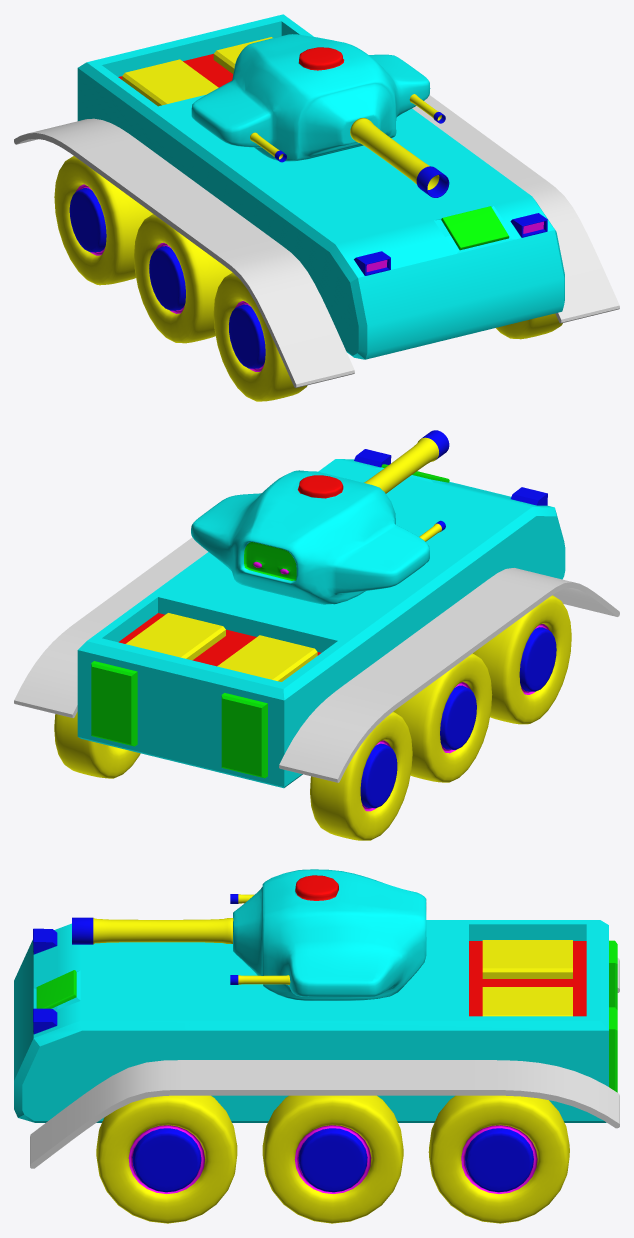
Rendered from ArmoredCar.fbx.
3 renders of one model, top to bottom at view 1: azimuth 30°, elevation 25°; view 2: azimuth 150°, elevation 25°; view 3: azimuth 270°, elevation 25°, orthographic. The views are drawn at different scales.
Visible parts, largest first — view 1: VehicleBody_Mesh, Fenders_Mesh, Turret_Mesh, CenterWheels_Mesh, RearWheels_Mesh, FrontWheels_Mesh, Guns_Mesh; view 2: VehicleBody_Mesh, Fenders_Mesh, Turret_Mesh, RearWheels_Mesh, FrontWheels_Mesh, CenterWheels_Mesh, Guns_Mesh; view 3: VehicleBody_Mesh, Fenders_Mesh, Turret_Mesh, CenterWheels_Mesh, RearWheels_Mesh, FrontWheels_Mesh, Guns_Mesh.
Boxes of the visible parts, x1=… form: VehicleBody_Mesh: x1=77, y1=14, x2=564, y2=359; Fenders_Mesh: x1=14, y1=95, x2=619, y2=387; Turret_Mesh: x1=191, y1=34, x2=430, y2=161; CenterWheels_Mesh: x1=134, y1=214, x2=232, y2=343; RearWheels_Mesh: x1=54, y1=156, x2=152, y2=285; FrontWheels_Mesh: x1=213, y1=272, x2=562, y2=401; Guns_Mesh: x1=250, y1=94, x2=449, y2=197; VehicleBody_Mesh: x1=77, y1=449, x2=565, y2=788; Fenders_Mesh: x1=14, y1=537, x2=619, y2=782; Turret_Mesh: x1=191, y1=470, x2=429, y2=604; RearWheels_Mesh: x1=54, y1=711, x2=412, y2=840; FrontWheels_Mesh: x1=473, y1=595, x2=571, y2=724; CenterWheels_Mesh: x1=393, y1=653, x2=492, y2=782; Guns_Mesh: x1=364, y1=430, x2=449, y2=541; VehicleBody_Mesh: x1=14, y1=920, x2=617, y2=1122; Fenders_Mesh: x1=30, y1=958, x2=619, y2=1168; Turret_Mesh: x1=233, y1=869, x2=426, y2=1000; CenterWheels_Mesh: x1=262, y1=1095, x2=403, y2=1223; RearWheels_Mesh: x1=428, y1=1095, x2=569, y2=1223; FrontWheels_Mesh: x1=96, y1=1095, x2=237, y2=1223; Guns_Mesh: x1=72, y1=894, x2=290, y2=984.
Size of the model in its own units: 532 by 401 by 826.
